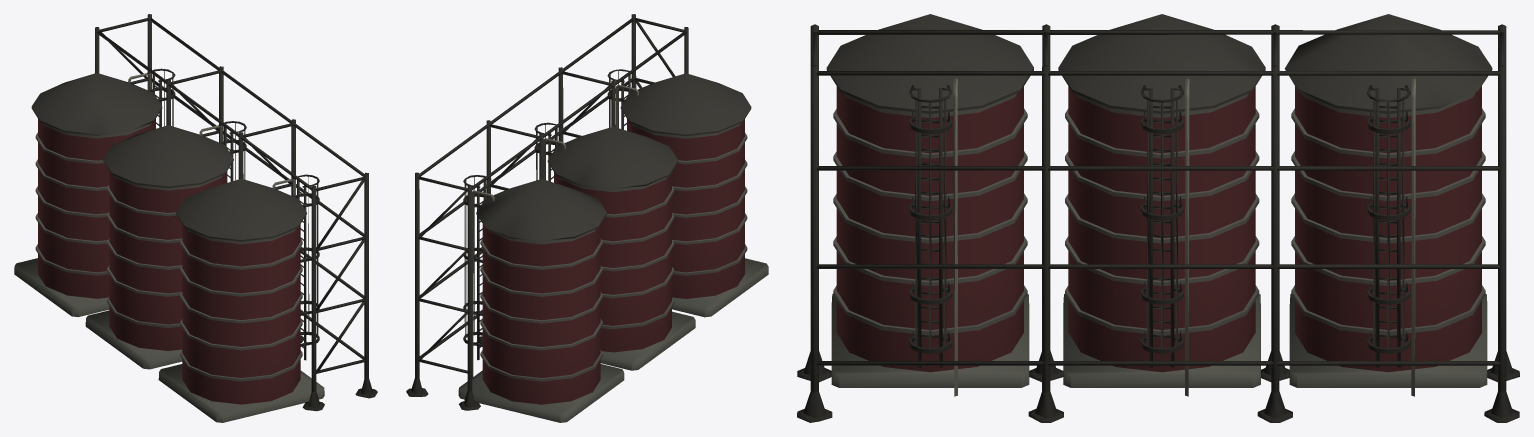
File: farm_silos.glb
The picture shows the model from 3 angles, left to right: view 1: azimuth 30°, elevation 25°; view 2: azimuth 150°, elevation 25°; view 3: azimuth 270°, elevation 25°; orthographic projection. The views are drawn at different scales.
Visible parts, largest first — view 1: farm_silos; view 2: farm_silos; view 3: farm_silos.
Boxes of the visible parts, x1,y1,x2,y2 form: farm_silos: (14, 14, 377, 422); farm_silos: (406, 14, 768, 422); farm_silos: (797, 14, 1519, 422).
Bounding box in the file's own units: 4.92 × 6.7 × 12.54.
1 material, 1 textured.
